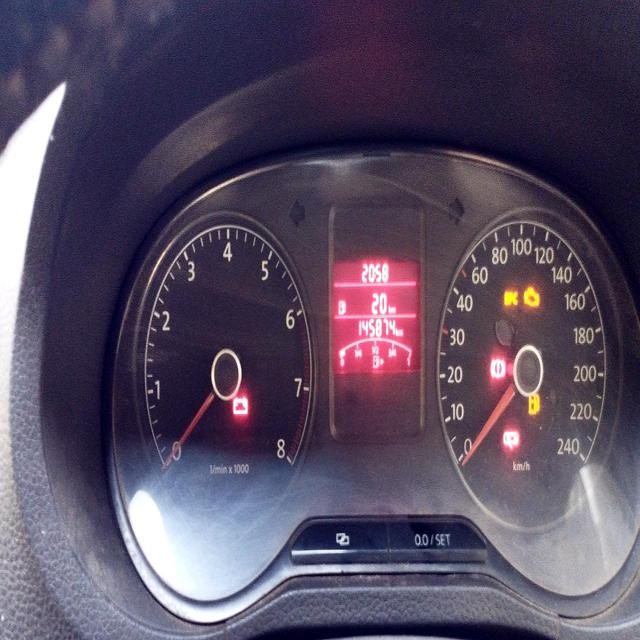odometer: (354, 317, 397, 344)
